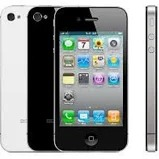iphone: (51, 6, 129, 154)
iphone4: (51, 5, 129, 153)
